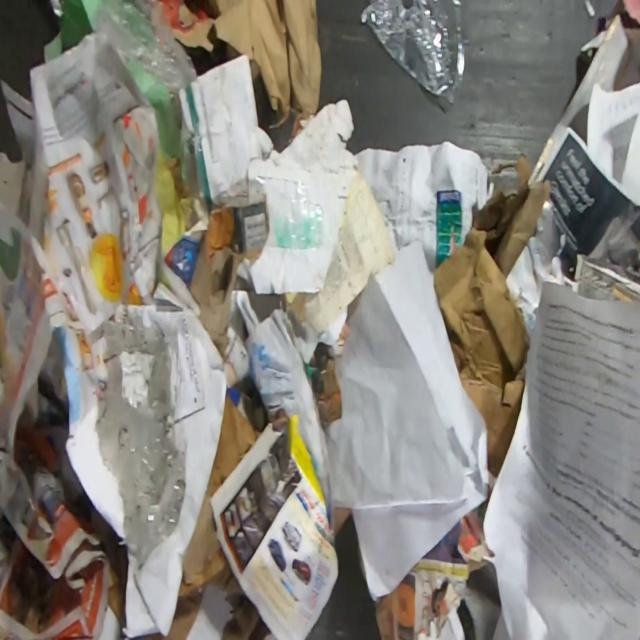cardboard: (430, 152, 553, 479), (138, 389, 273, 639), (159, 0, 323, 139), (186, 226, 262, 363), (305, 354, 341, 431), (106, 543, 128, 629), (332, 507, 352, 538)
rigid_plastic: (359, 0, 466, 107)
soft_plastic: (88, 312, 186, 571), (96, 0, 200, 96)
